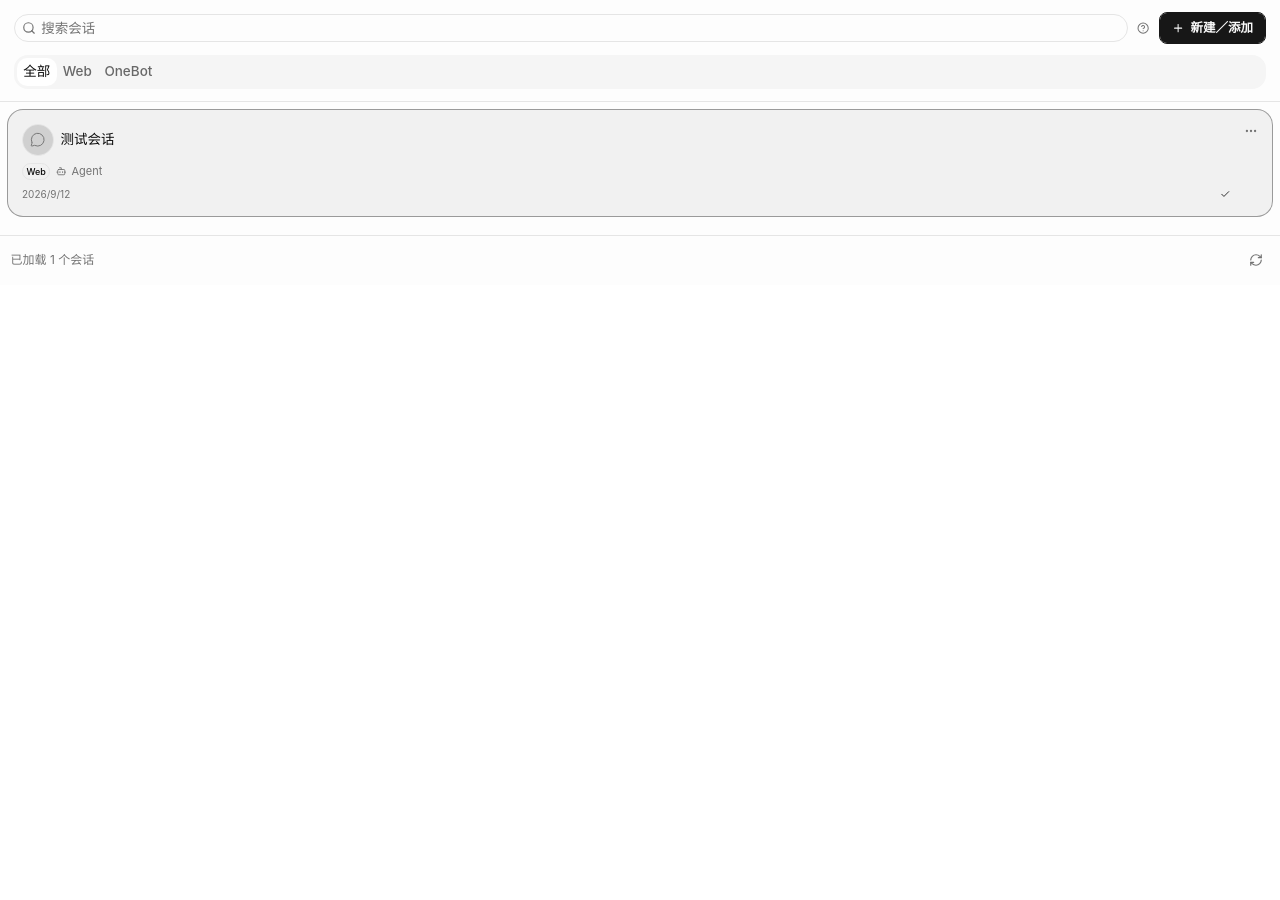
Test: directory menu modal origins › directory rename closes when its api owner ends
Click the button named "会话操作：测试会话" at (1251, 131), box [1237,117,1265,145]
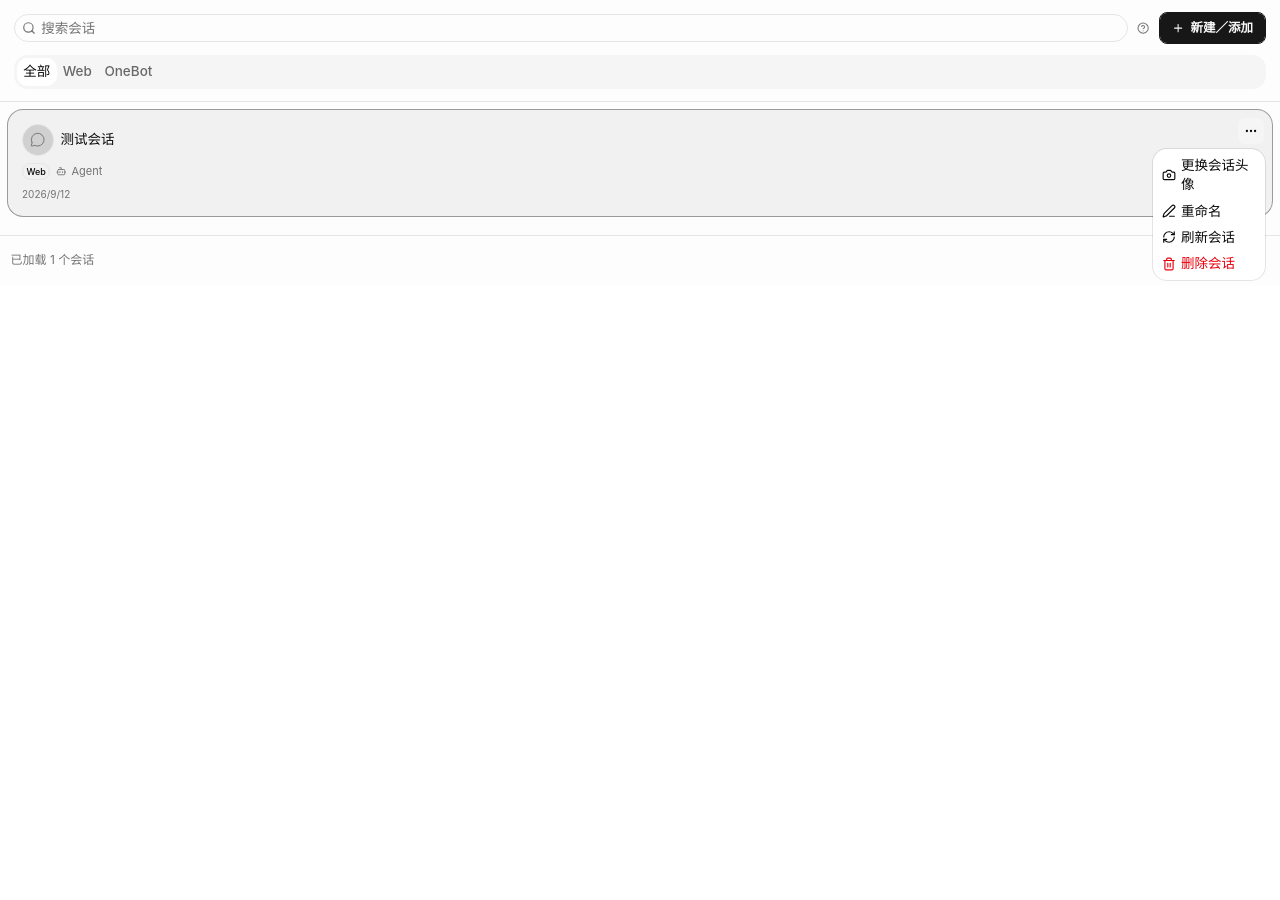
Click the menu item "重命名" at (1192, 211), box [1162,203,1222,219]
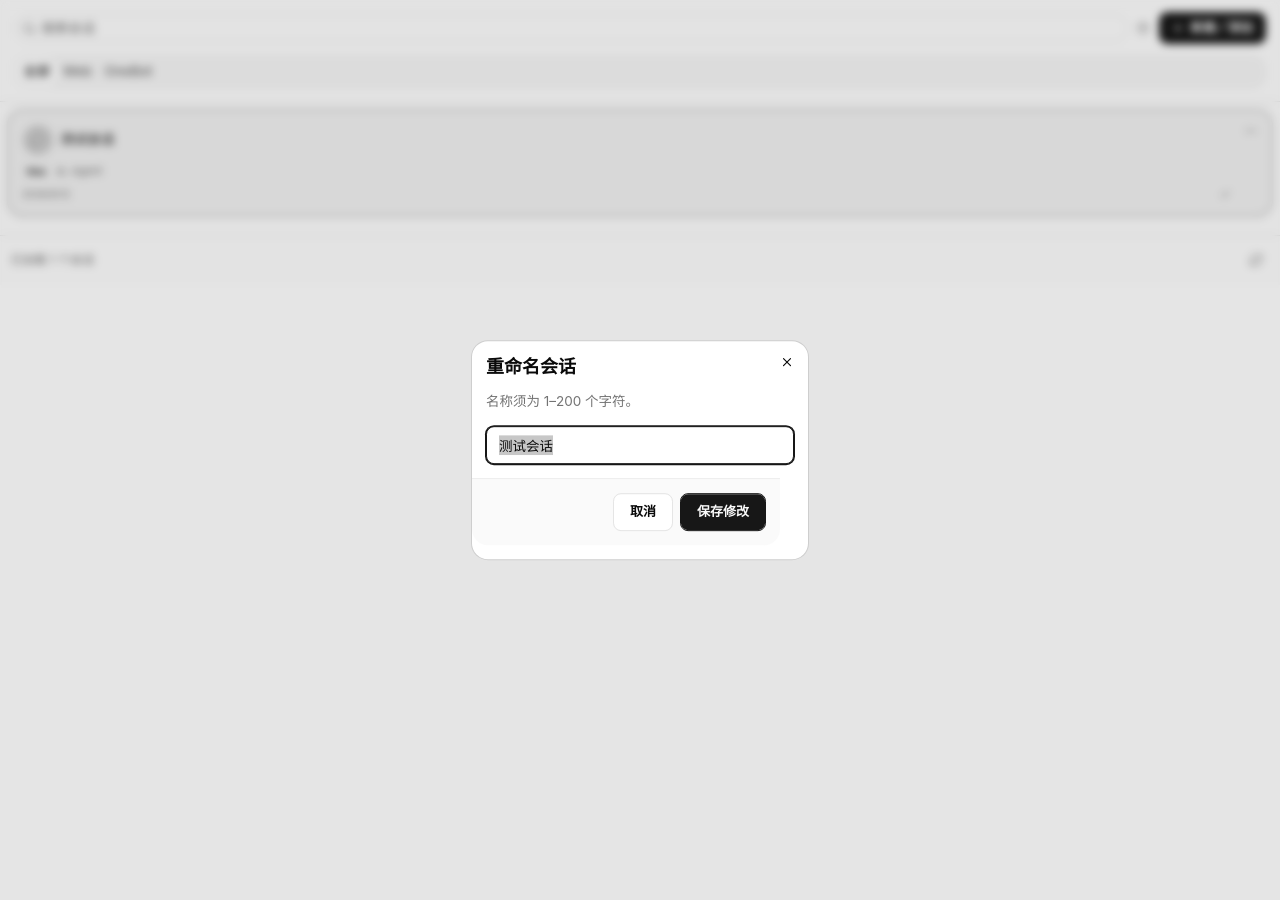
expect the dialog is shown: met, box [472,341,808,559]
